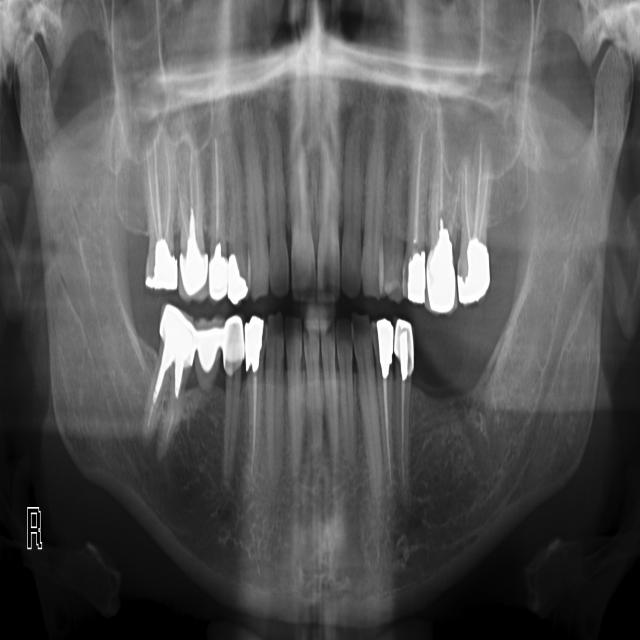tooth: (146, 303, 195, 449), (285, 104, 313, 298), (315, 102, 342, 297), (426, 146, 456, 313), (458, 149, 489, 303), (146, 142, 178, 290), (355, 316, 379, 500), (179, 147, 207, 299), (265, 113, 288, 296), (362, 118, 384, 299), (244, 125, 267, 297), (225, 135, 248, 301), (224, 318, 245, 485), (265, 313, 285, 470), (285, 315, 305, 468), (209, 140, 228, 301), (395, 319, 413, 475), (323, 318, 340, 457), (339, 317, 355, 461), (196, 318, 223, 388), (305, 312, 319, 439), (379, 319, 392, 381)
